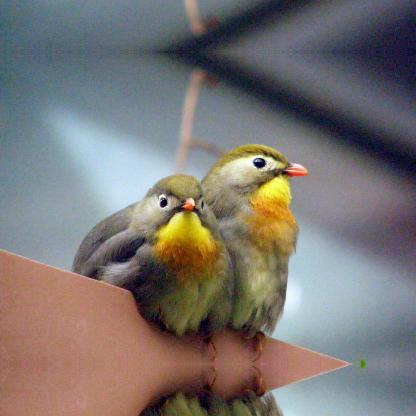Bird: (70, 177, 254, 334), (194, 143, 316, 360), (193, 367, 317, 415)
